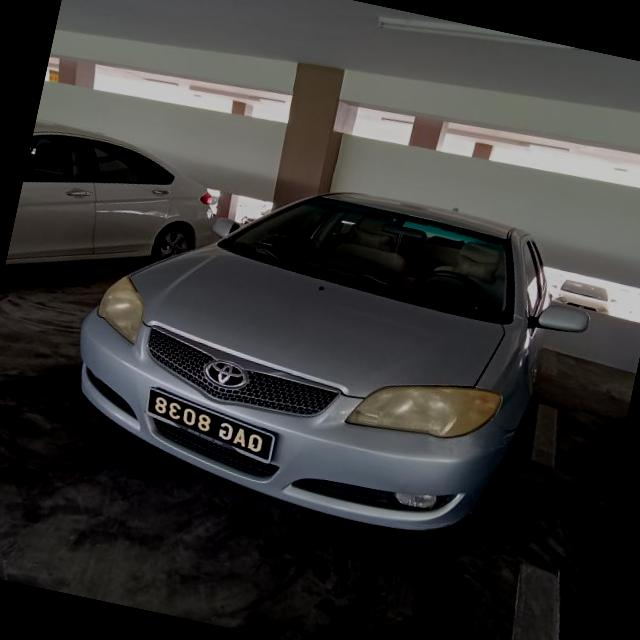ToyotaVios: (51, 138, 606, 560)
